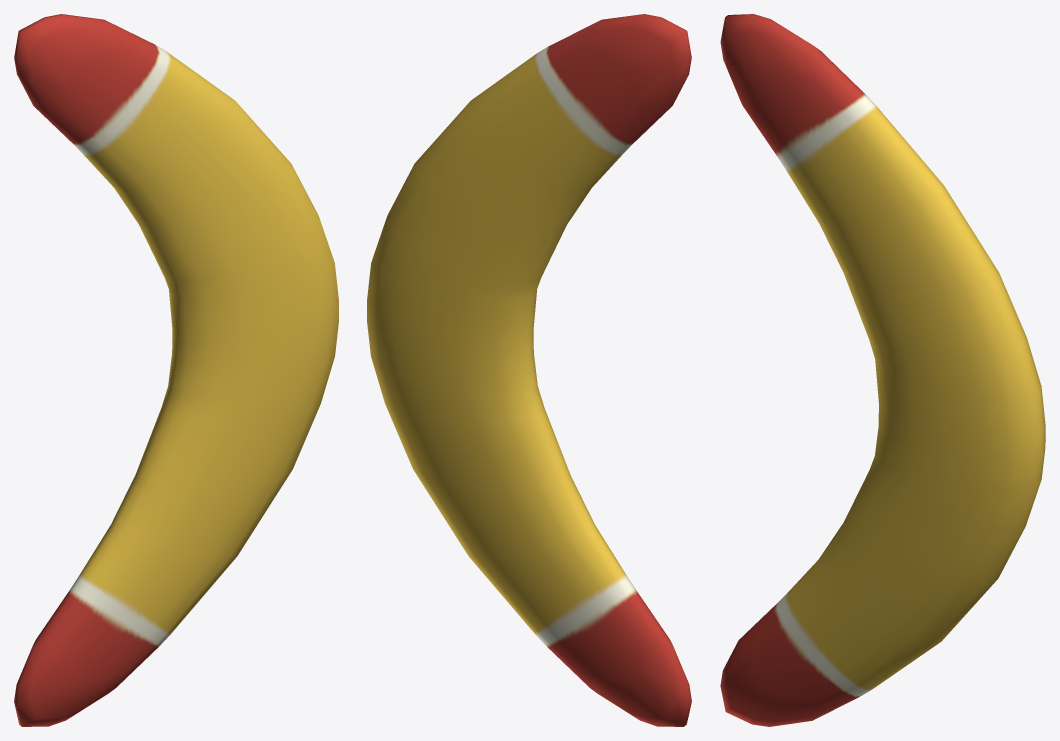
The model's file is boomerang.fbx.
3 views of the same model, side by side, from view 1: azimuth 30°, elevation 25°; view 2: azimuth 150°, elevation 25°; view 3: azimuth 330°, elevation 25° (orthographic).
Parts seen in each view (by area): view 1: boomerang; view 2: boomerang; view 3: boomerang.
Boxes of the visible parts, x1=… form: boomerang: x1=14, y1=14, x2=338, y2=726; boomerang: x1=367, y1=14, x2=691, y2=726; boomerang: x1=720, y1=14, x2=1045, y2=726.
Bounding box in the file's own units: 0.474 × 1 × 0.1008.
1 material, 1 textured.
